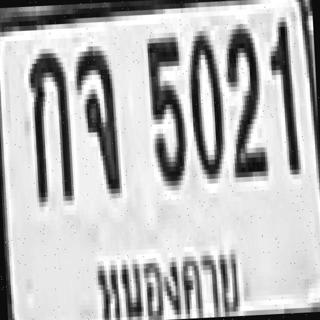A01: (27, 48, 72, 198)
A08: (73, 43, 120, 193)
N00: (186, 26, 224, 175)
N01: (267, 17, 297, 170)
N02: (223, 21, 266, 175)
N05: (145, 32, 185, 182)
P36: (86, 232, 250, 320)
